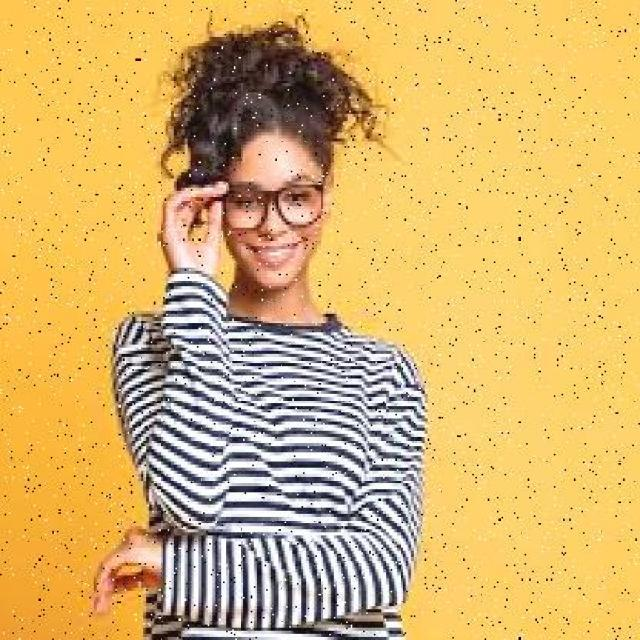glasses: (202, 170, 338, 244)
